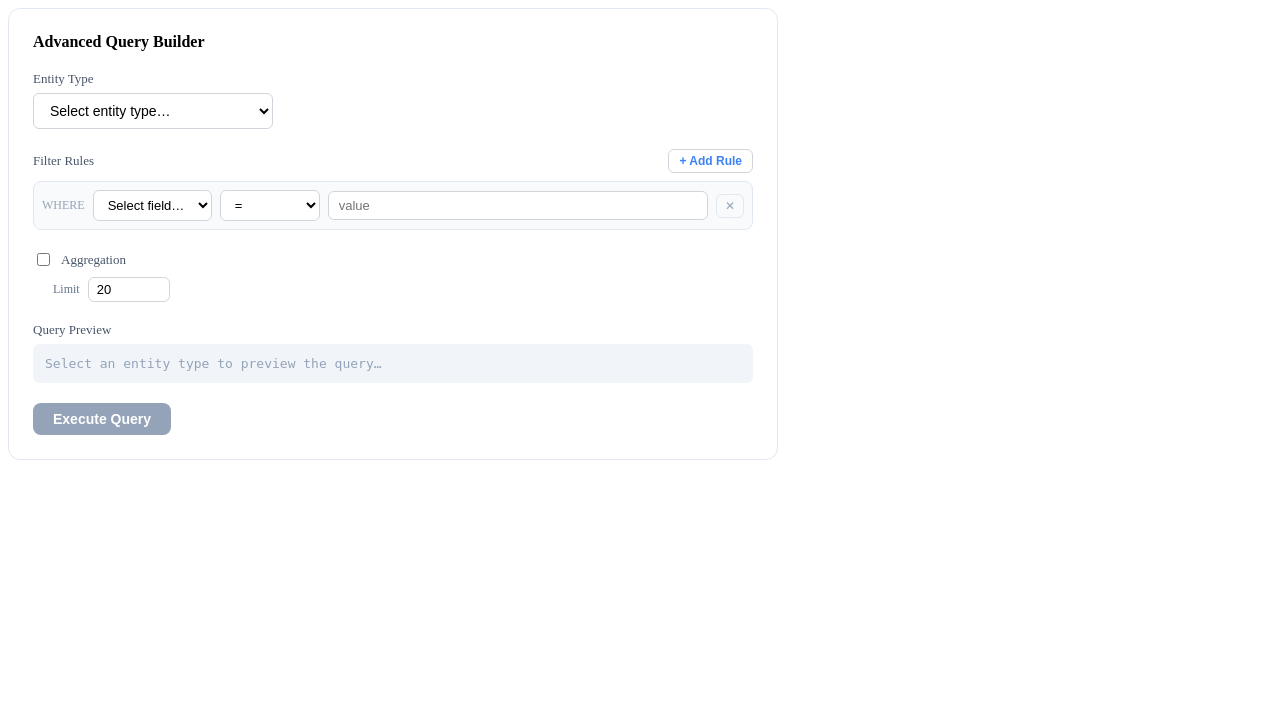
Test: AdvancedQueryBuilder › filter rule management › removes a rule row when remove button is clicked
This screenshot has width=1280, height=720.
What coordinates should you click on to do the following:
click the button "+ Add Rule"
I would click on:
 (711, 161)
Its box is [668,149,753,173].
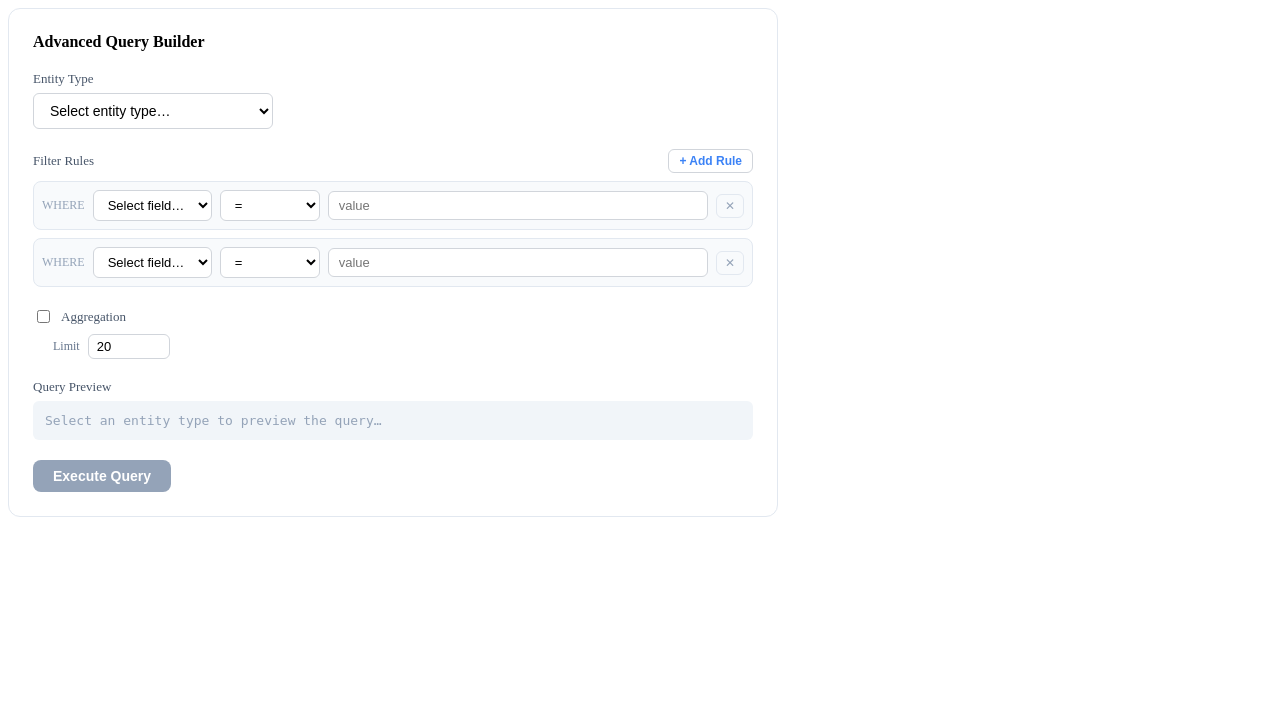
Now the number of dropdowns named "Filter field" is 2, box [93,190,212,221]; [93,247,212,278]
What coordinates should you click on to do the following:
click the button named "remove filter rule"
I would click on:
 (730, 206)
Its box is [716,194,744,218].
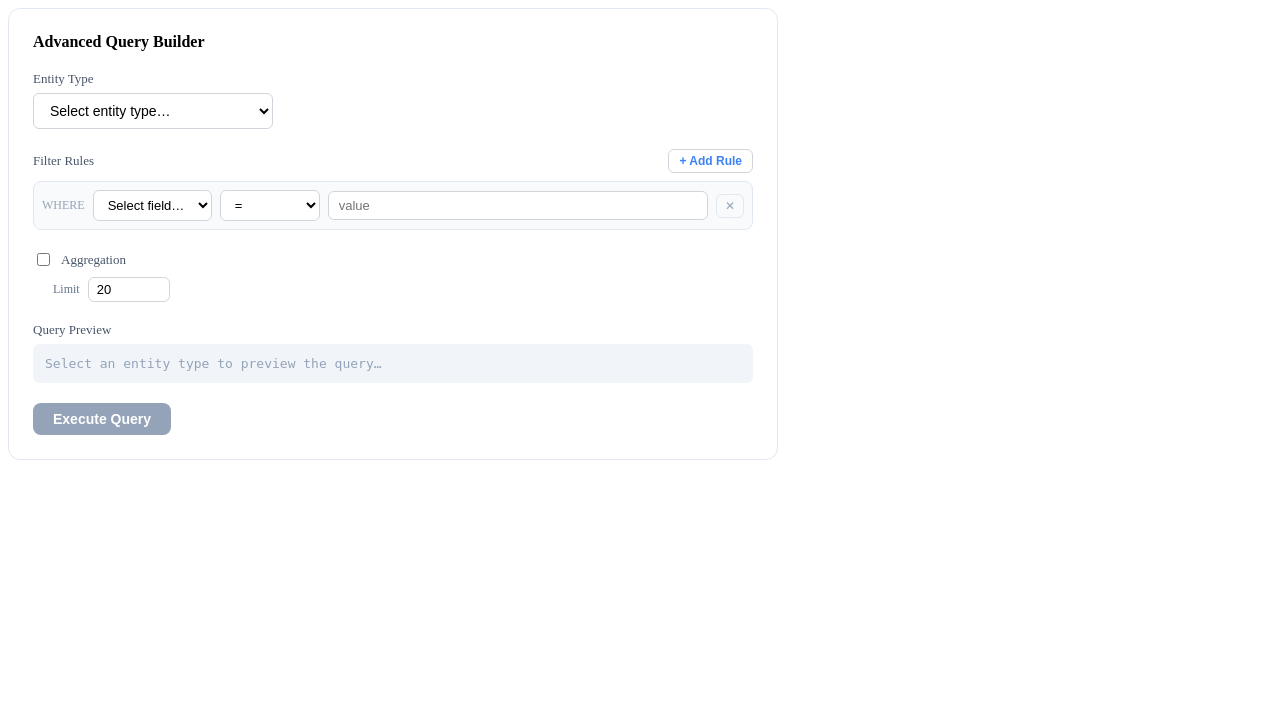
Now the number of dropdowns named "Filter field" is 1, box [93,190,212,221]
